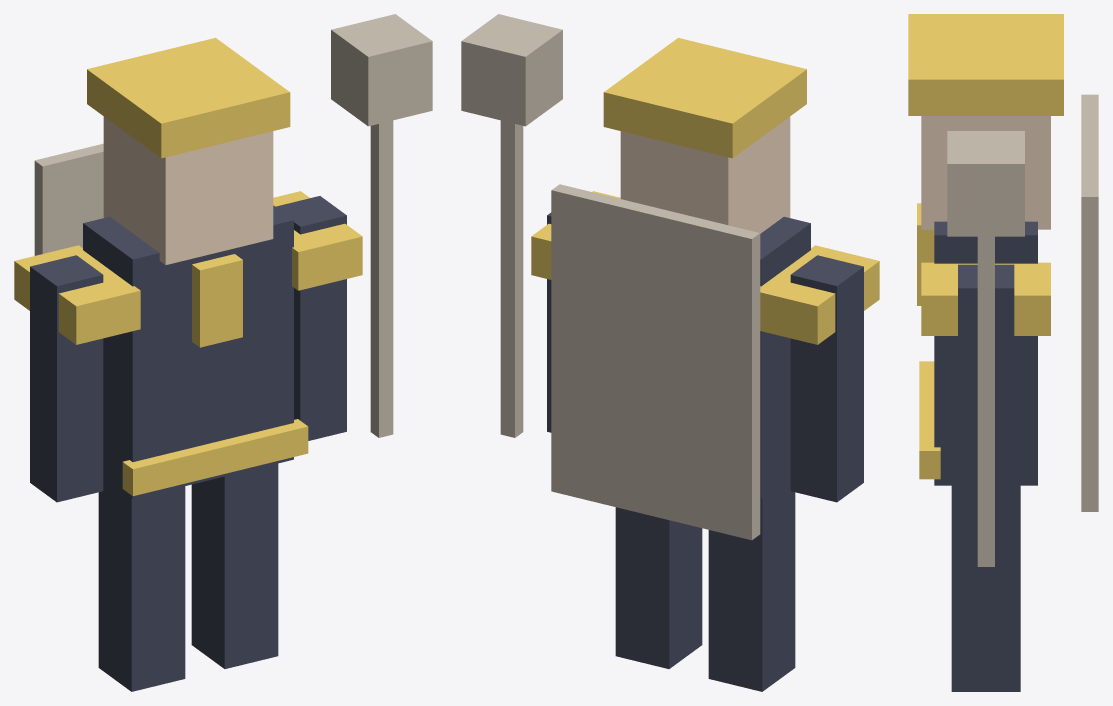
File: 16_dax_riftwalker_runner_under_data.glb
The picture shows the model from 3 angles, left to right: view 1: azimuth 30°, elevation 25°; view 2: azimuth 150°, elevation 25°; view 3: azimuth 270°, elevation 25°; orthographic projection. The views are drawn at different scales.
Visible parts, largest first — view 1: Dax Riftwalker, Runner under Data; view 2: Dax Riftwalker, Runner under Data; view 3: Dax Riftwalker, Runner under Data.
Part boxes in pixels (<box>): Dax Riftwalker, Runner under Data: <box>14,14,432,691</box>; Dax Riftwalker, Runner under Data: <box>461,14,879,691</box>; Dax Riftwalker, Runner under Data: <box>908,14,1098,691</box>.
Bounding box in the file's own units: 1.11 × 1.66 × 0.4709.
